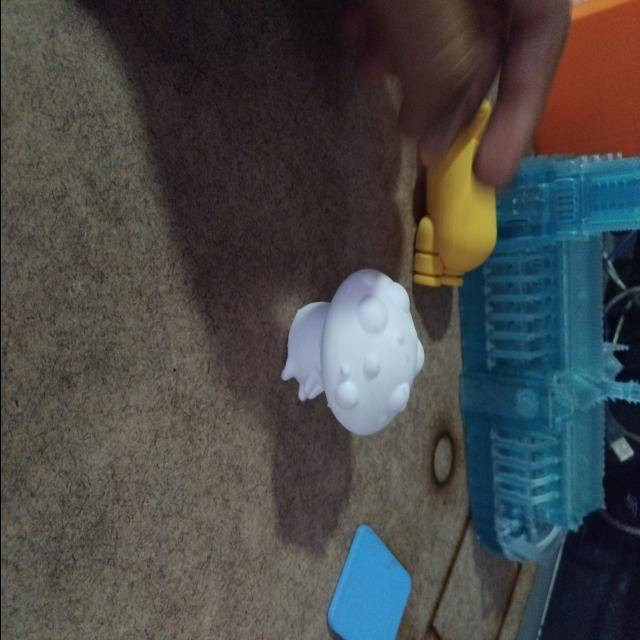Hongo: (272, 258, 430, 442)
